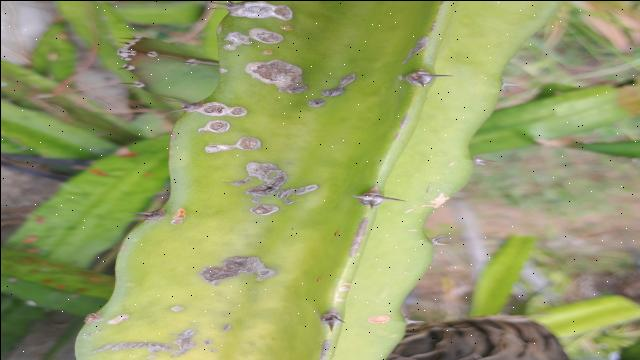stemcanker: (357, 308, 404, 331), (423, 184, 456, 216), (153, 205, 190, 230)
